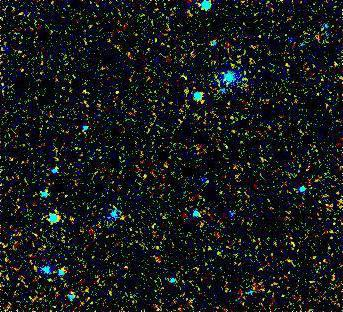star: (187, 87, 217, 117)
